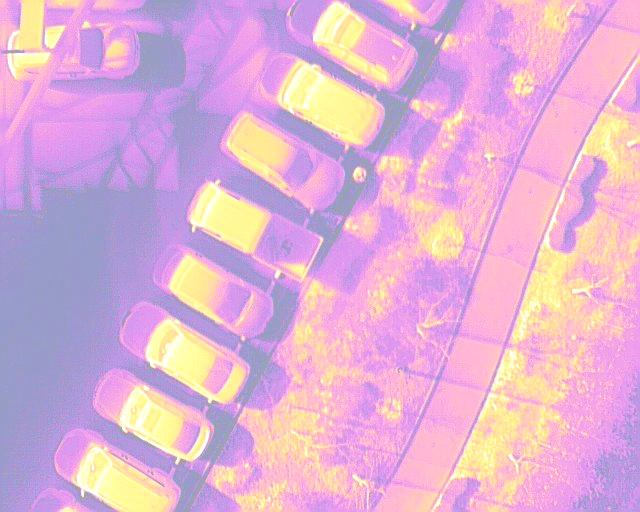No-Anomaly: (19, 0, 46, 47)
